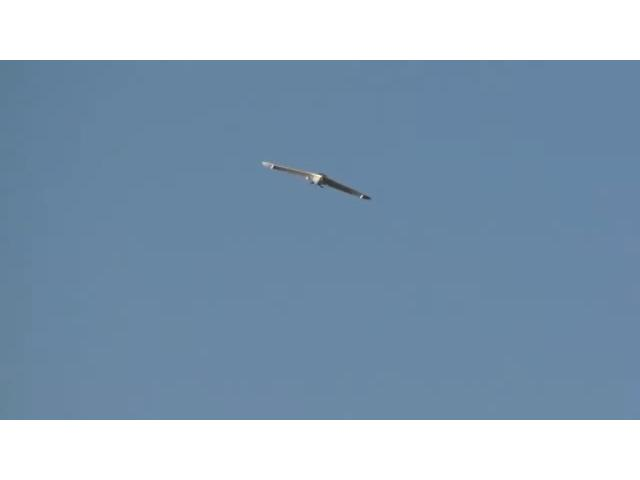Anti-Drone: (250, 156, 378, 212)
